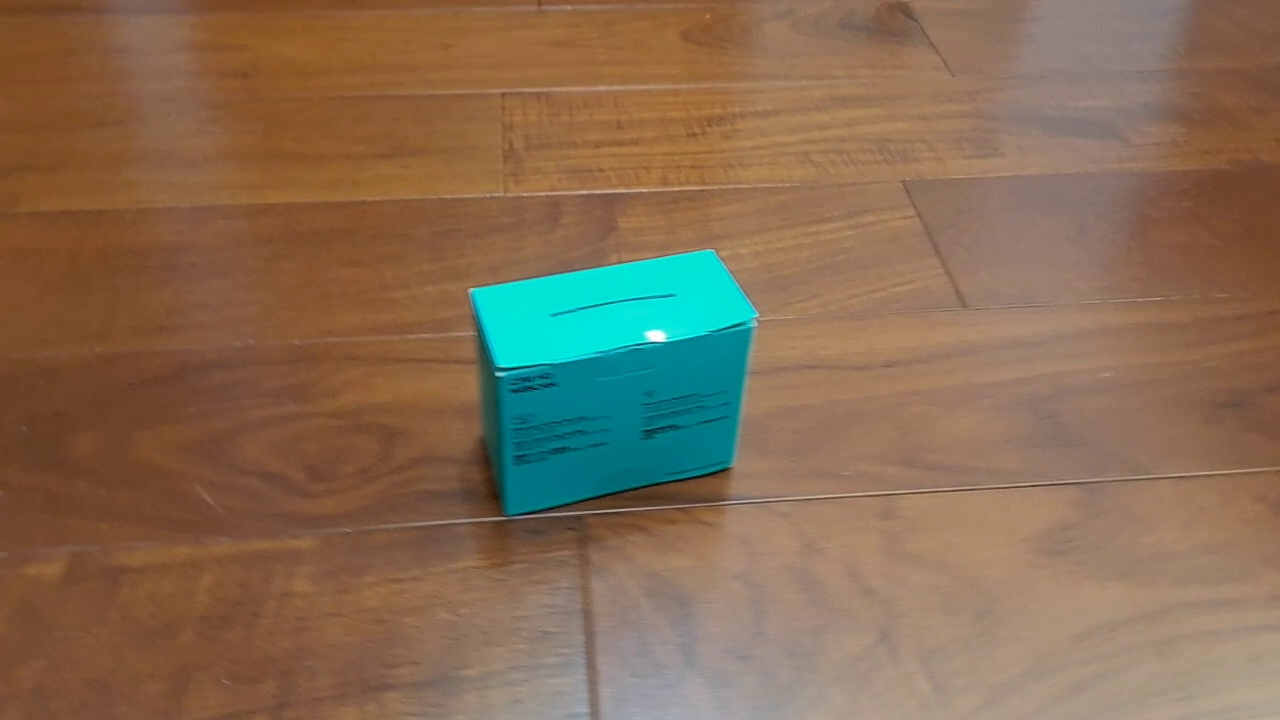webcam: (465, 247, 760, 519)
